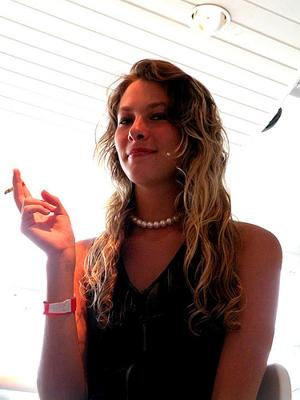person: (12, 54, 284, 398)
